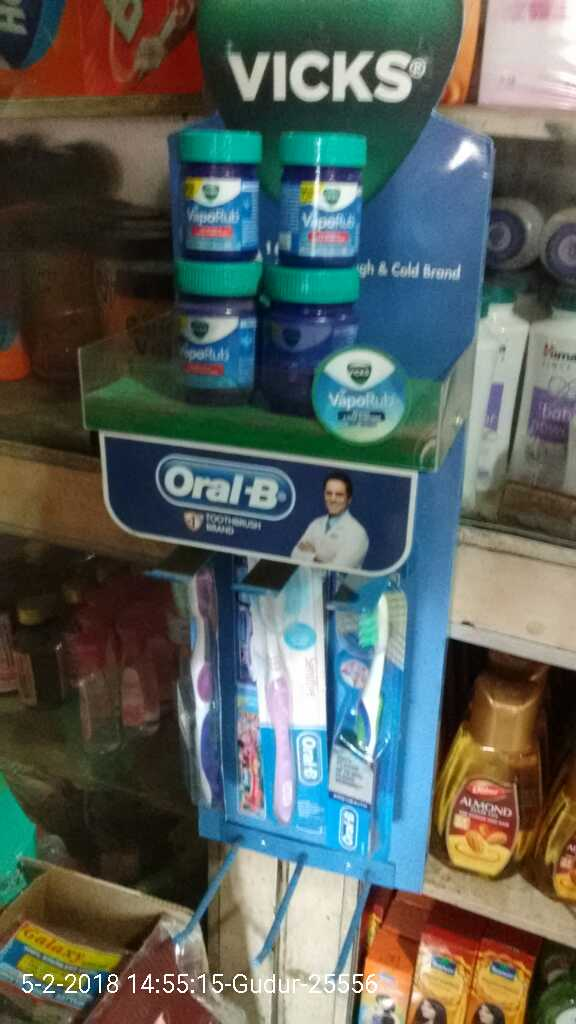pharmacy: (226, 599, 321, 827), (329, 602, 396, 860), (256, 264, 351, 420), (172, 133, 265, 263), (279, 120, 359, 266), (168, 274, 257, 402)
